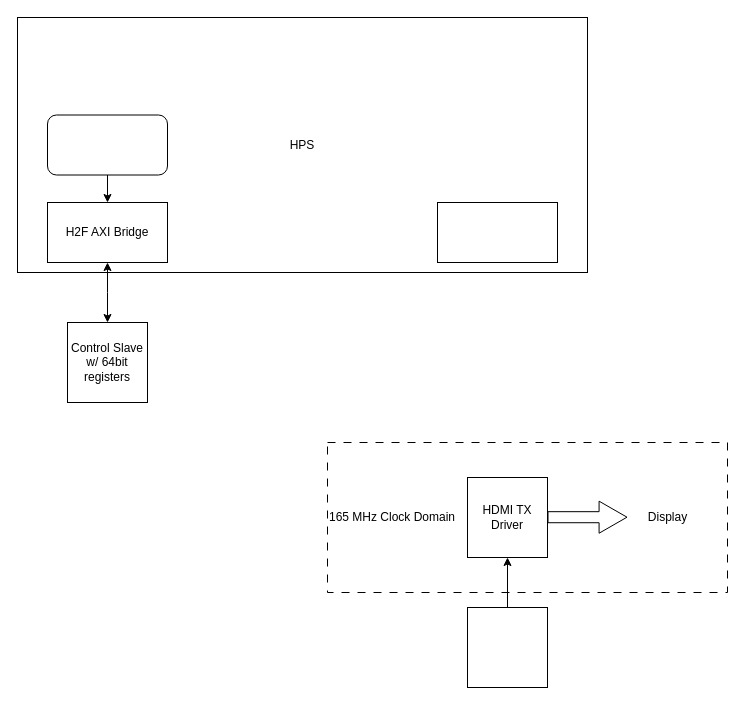
Image size: 745x705. Some labels were removed from this diagram. Each missing label, with the centre of its shape:
"F2H SDRAM Bridge" goes at pixel 497 232.
"HDMI I2C Configuration Module" goes at pixel 507 647.
"Single_write.c Single_read.c" goes at pixel 107 144.
